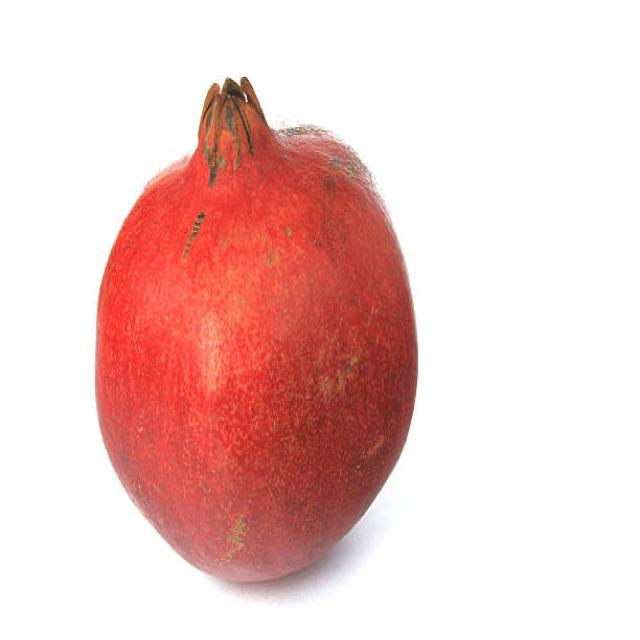Ripe: (89, 70, 422, 586)
